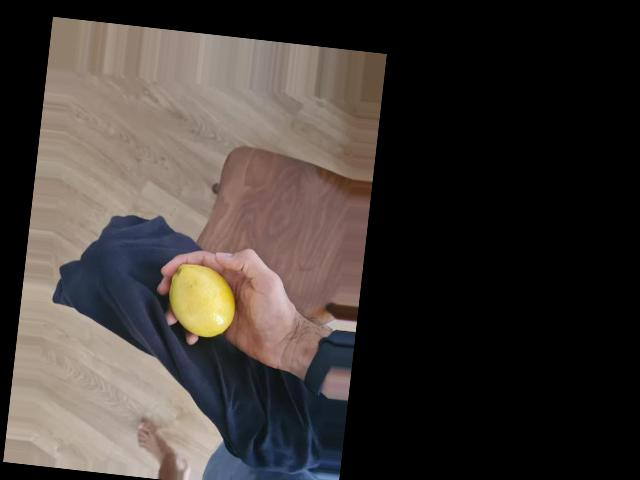lemon: (163, 261, 237, 340)
